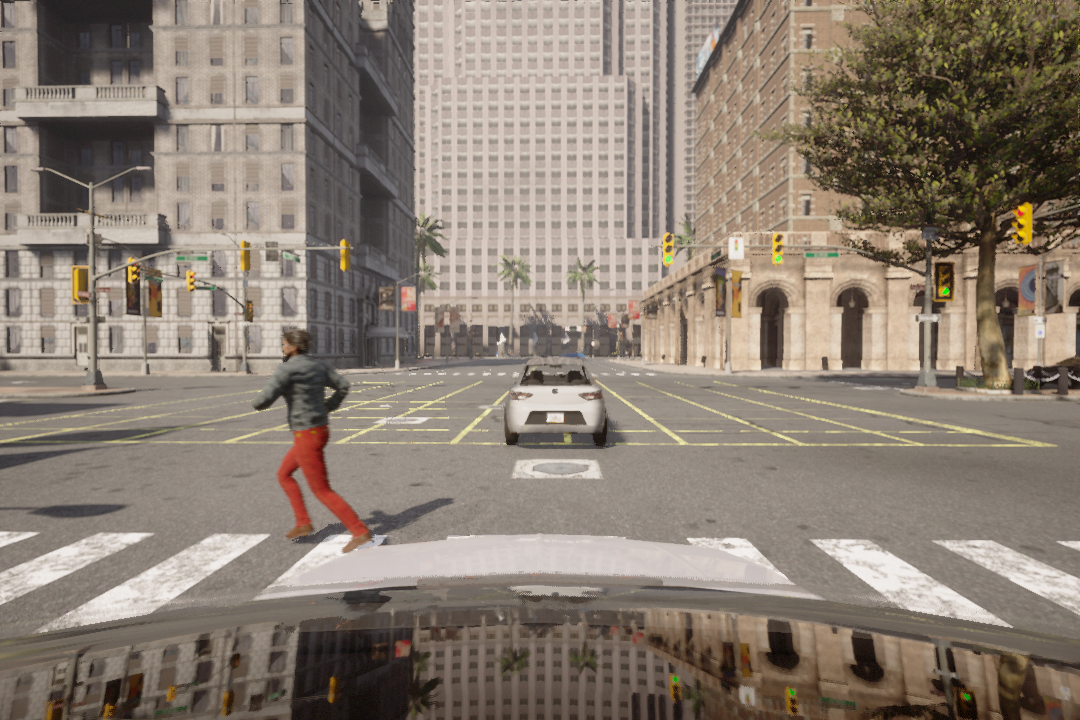TrafficLight: (1009, 203, 1041, 251), (934, 260, 955, 301), (770, 231, 791, 264), (663, 231, 678, 267), (126, 258, 142, 289), (184, 271, 197, 297)
